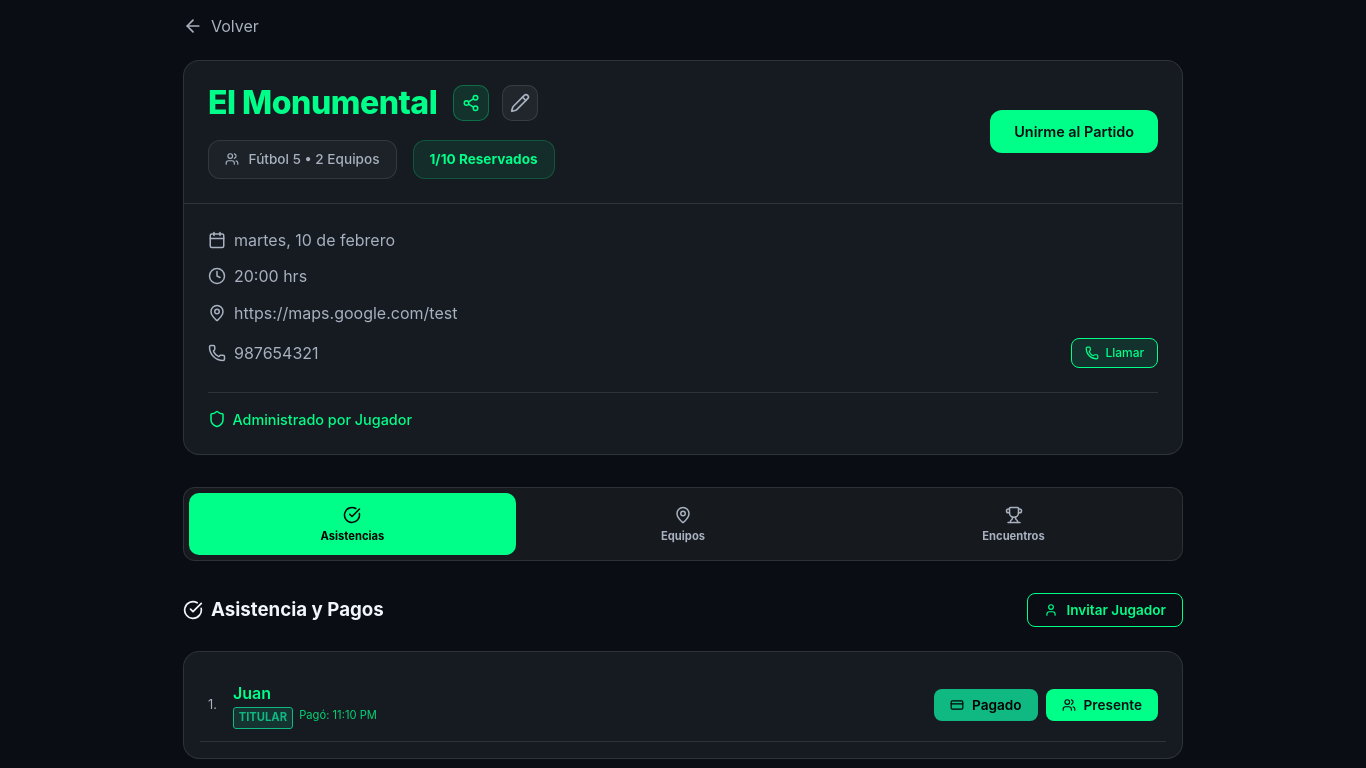
it: Responsive UI Logic › Mobile View (< 600px) hides labels in AdminTab
The width and height of the screenshot is (1366, 768).
Expected: the heading "El Monumental" is shown, [208,85,437,121]
Click the button "Asistencias": (352, 524) [189,493,516,555]
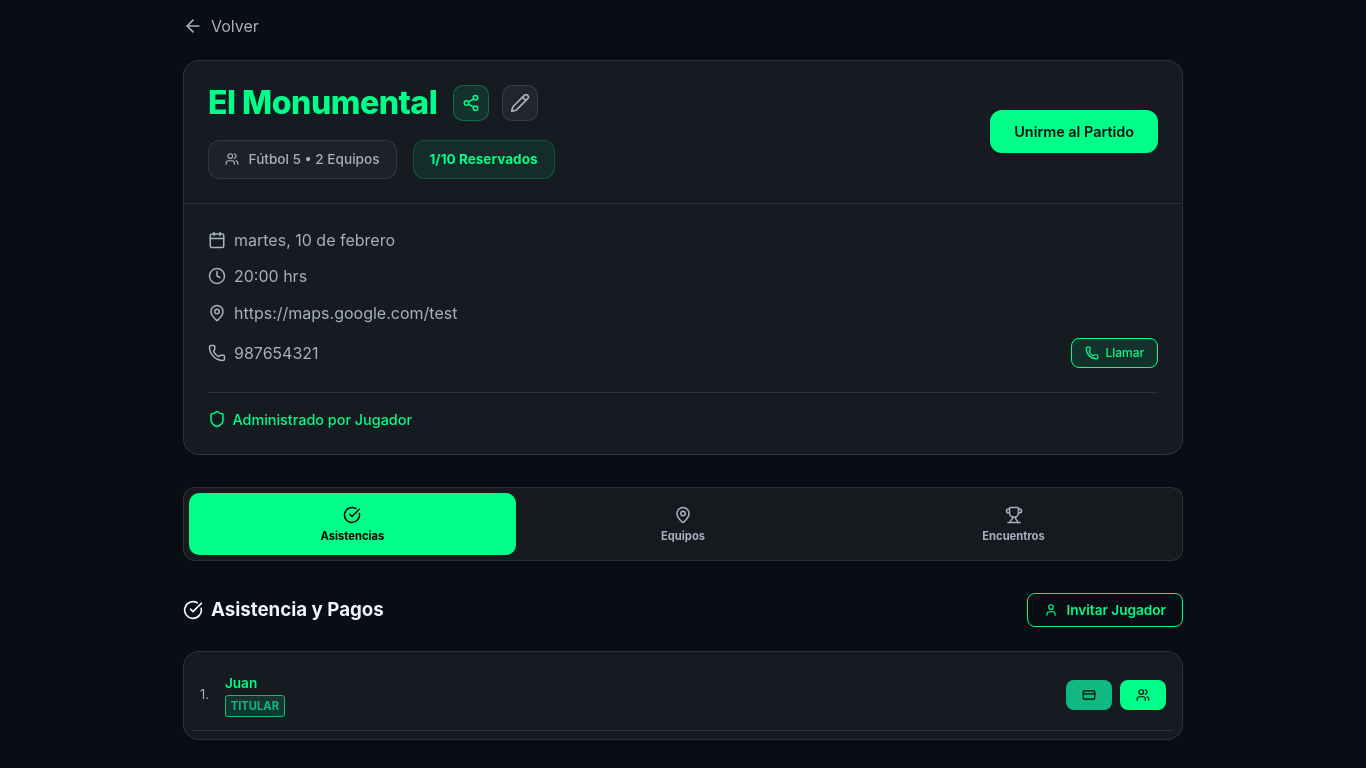
Expected: the button "Pagado" is gone
Expected: the button "Presente" is gone
